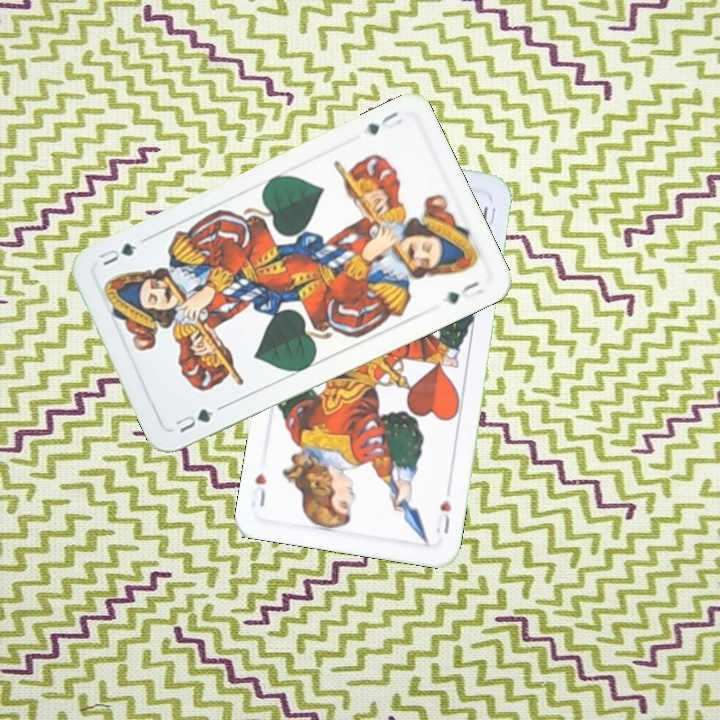GU: (171, 404, 216, 436), (362, 107, 405, 138)
HU: (431, 495, 454, 537)
